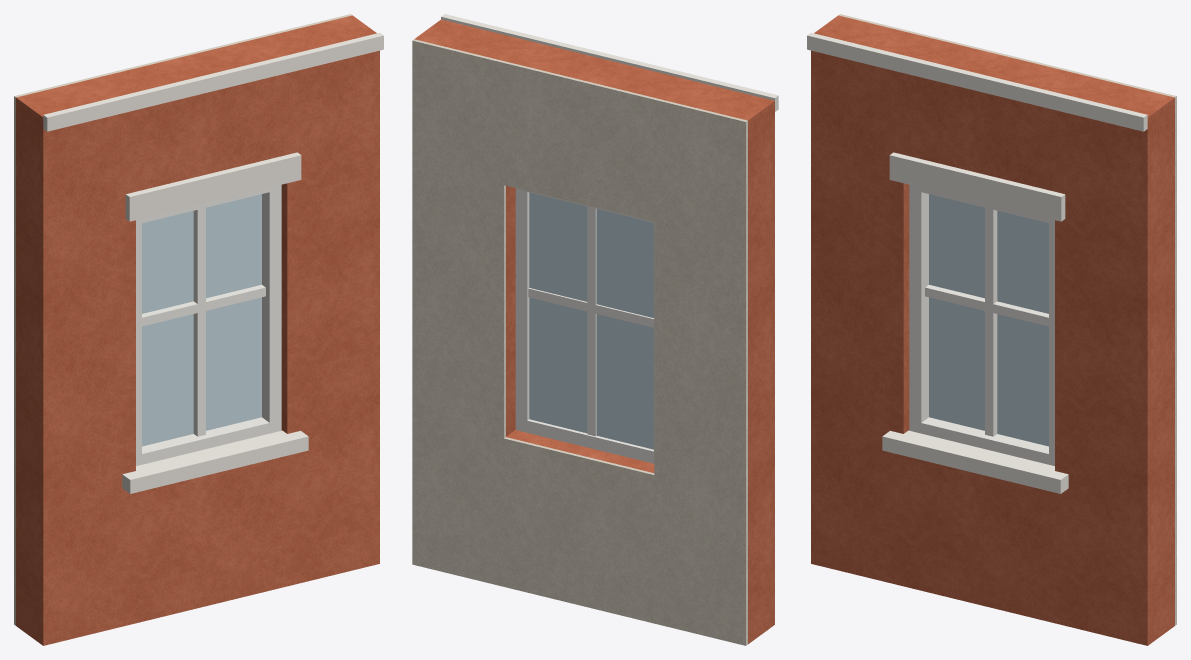
File: wall_render_window.glb
3 renders of one model, left to right at view 1: azimuth 30°, elevation 25°; view 2: azimuth 150°, elevation 25°; view 3: azimuth 330°, elevation 25°, orthographic.
Visible parts, largest first — view 1: wall_render_window_render, wall_render_window_glass, wall_render_window_trim, wall_render_window_frame, wall_render_window_plaster; view 2: wall_render_window_plaster, wall_render_window_render, wall_render_window_glass, wall_render_window_frame, wall_render_window_trim; view 3: wall_render_window_render, wall_render_window_glass, wall_render_window_trim, wall_render_window_frame, wall_render_window_plaster.
Boxes of the visible parts, box(x1,y1,x2,y2) form: wall_render_window_render: box(16, 15, 379, 645); wall_render_window_glass: box(142, 194, 261, 446); wall_render_window_trim: box(43, 32, 383, 493); wall_render_window_frame: box(136, 184, 281, 465); wall_render_window_plaster: box(14, 14, 352, 625); wall_render_window_plaster: box(412, 39, 747, 645); wall_render_window_render: box(414, 19, 774, 644); wall_render_window_glass: box(529, 192, 653, 449); wall_render_window_frame: box(515, 188, 654, 463); wall_render_window_trim: box(441, 14, 778, 111); wall_render_window_render: box(811, 15, 1174, 645); wall_render_window_glass: box(929, 194, 1048, 446); wall_render_window_trim: box(807, 32, 1147, 493); wall_render_window_frame: box(909, 184, 1054, 465); wall_render_window_plaster: box(838, 14, 1176, 625).
Size of the model in its own units: 2 by 3.02 by 0.38.
5 materials, 2 textured.
